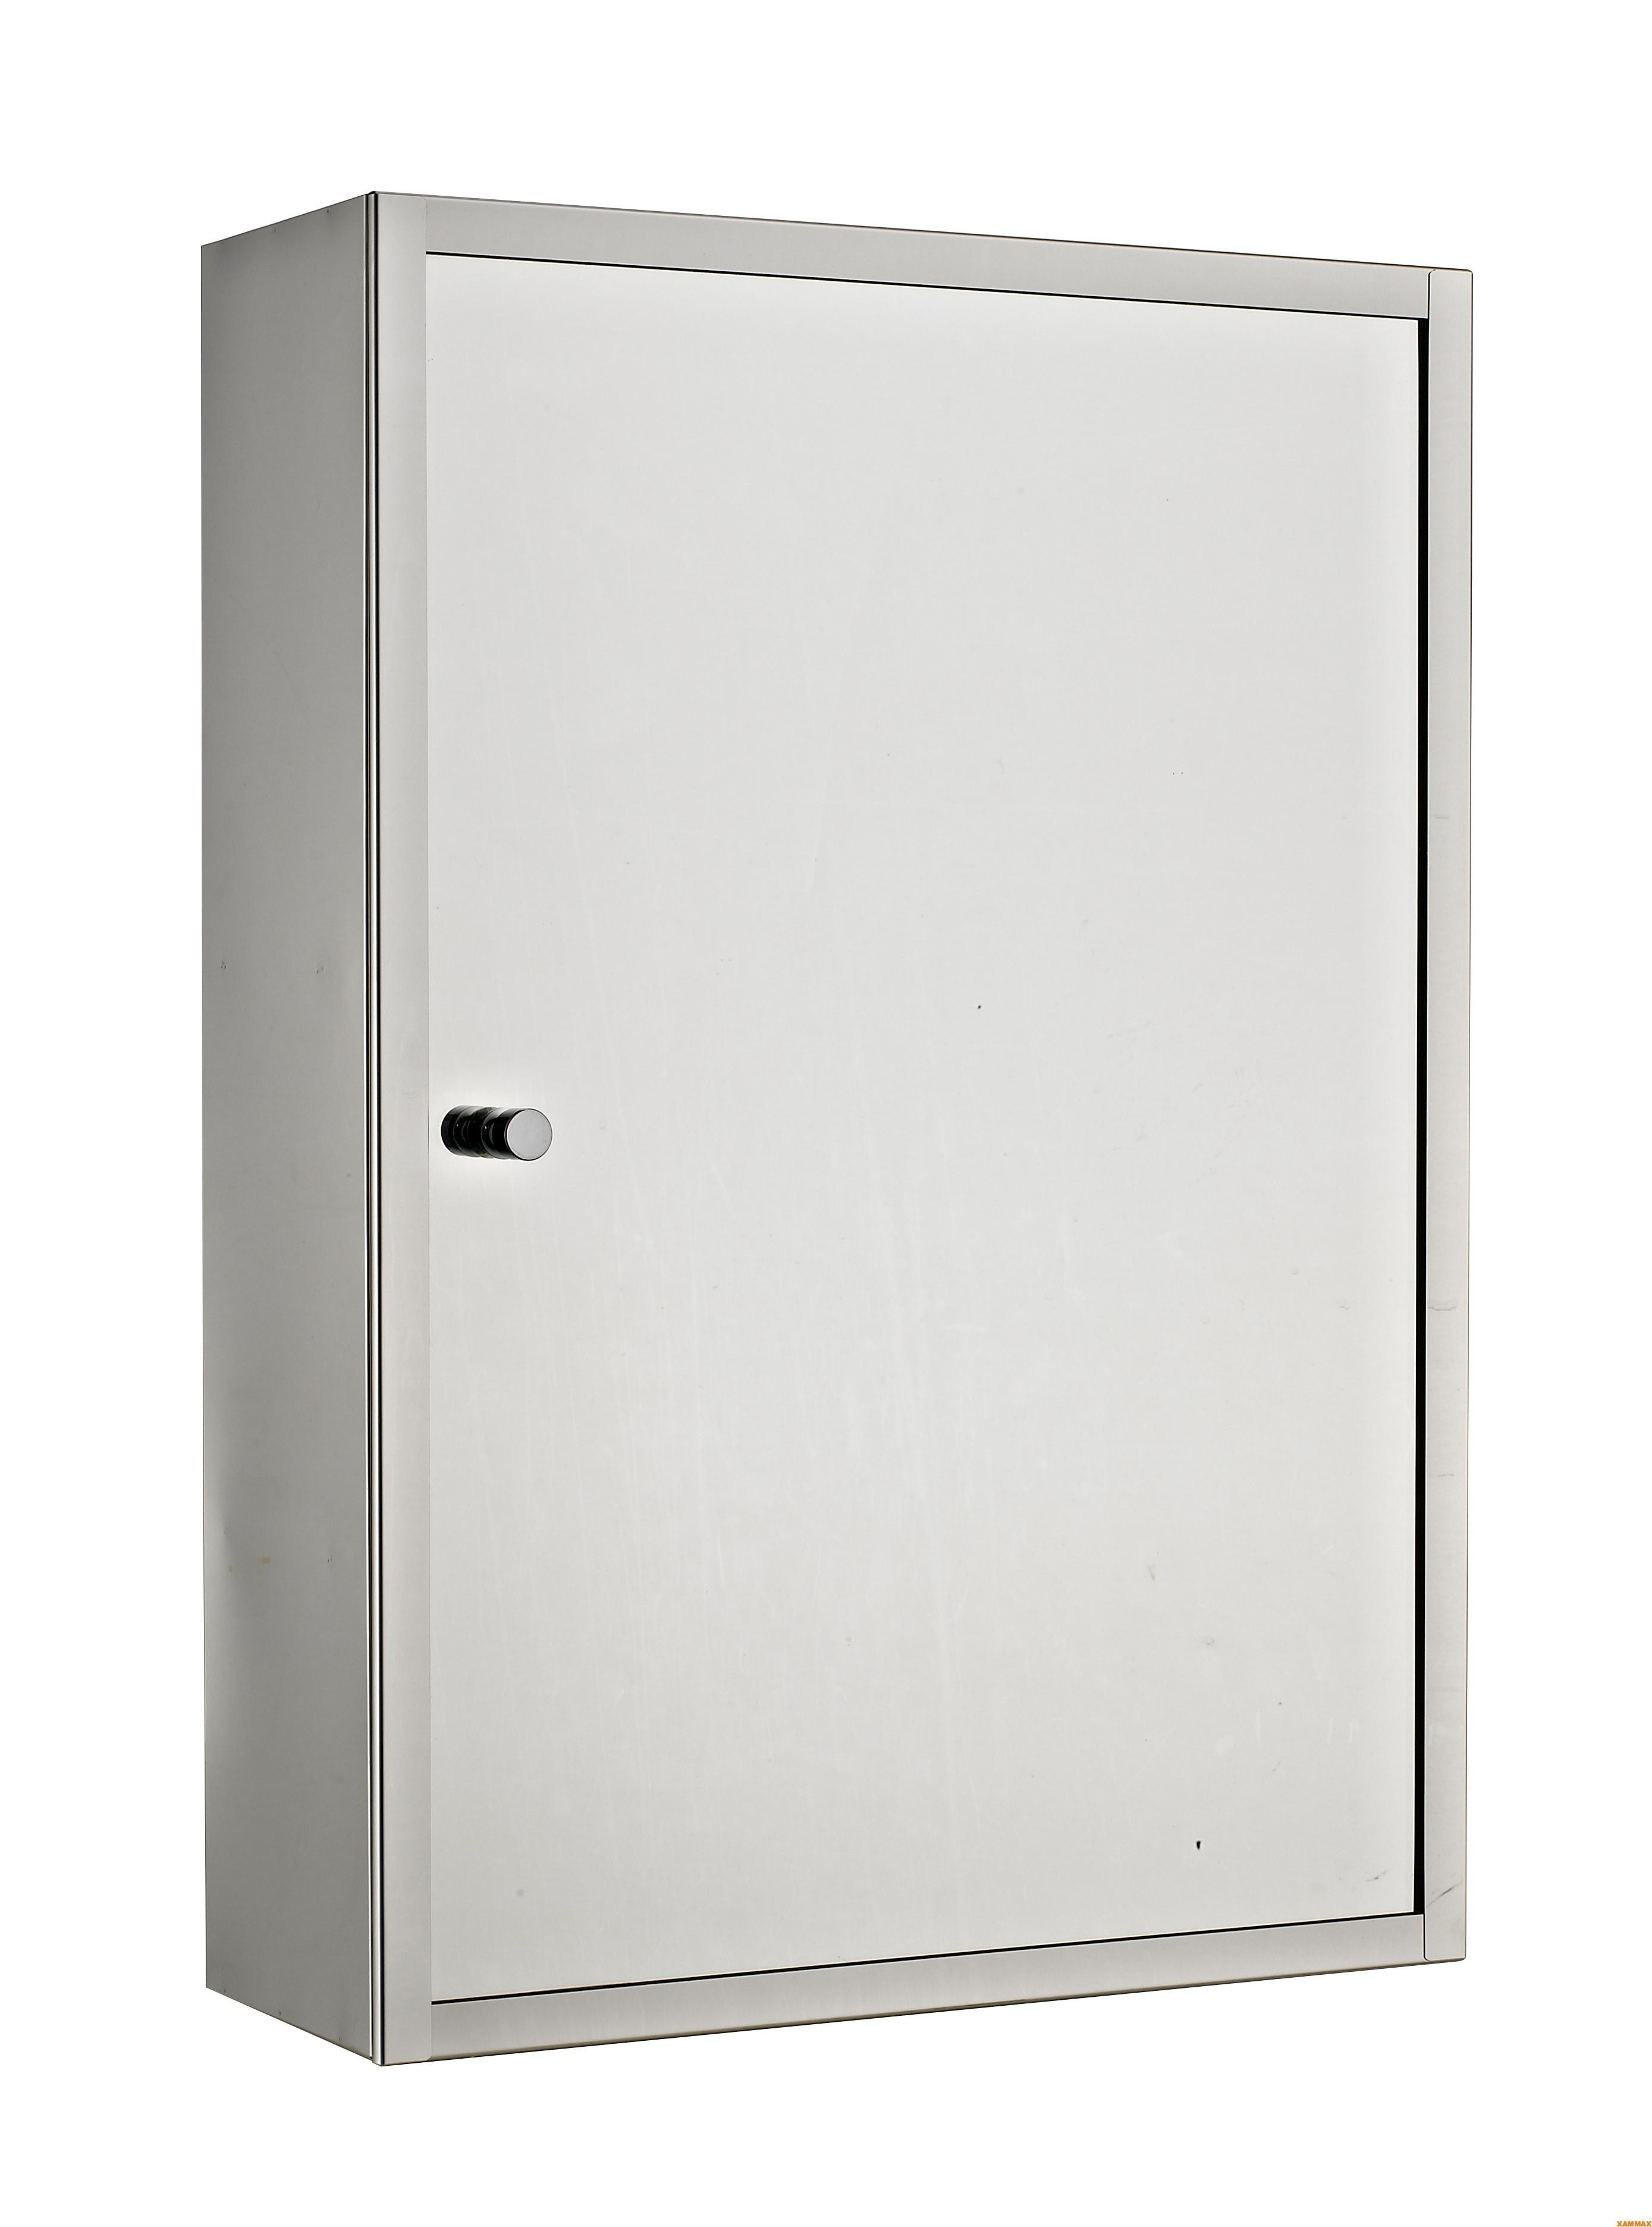cabinet_door: (406, 266, 1423, 1922)
handle: (441, 1087, 555, 1184)
